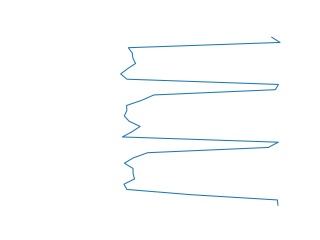majorRiverChannelBar: (117, 37, 284, 205)
